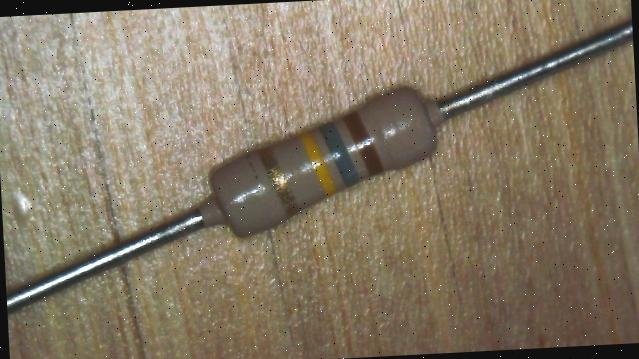brown: (342, 109, 383, 177)
gold: (258, 145, 296, 217)
grey: (320, 121, 358, 187)
resistor: (181, 47, 465, 267)
yellow: (300, 129, 336, 197)
